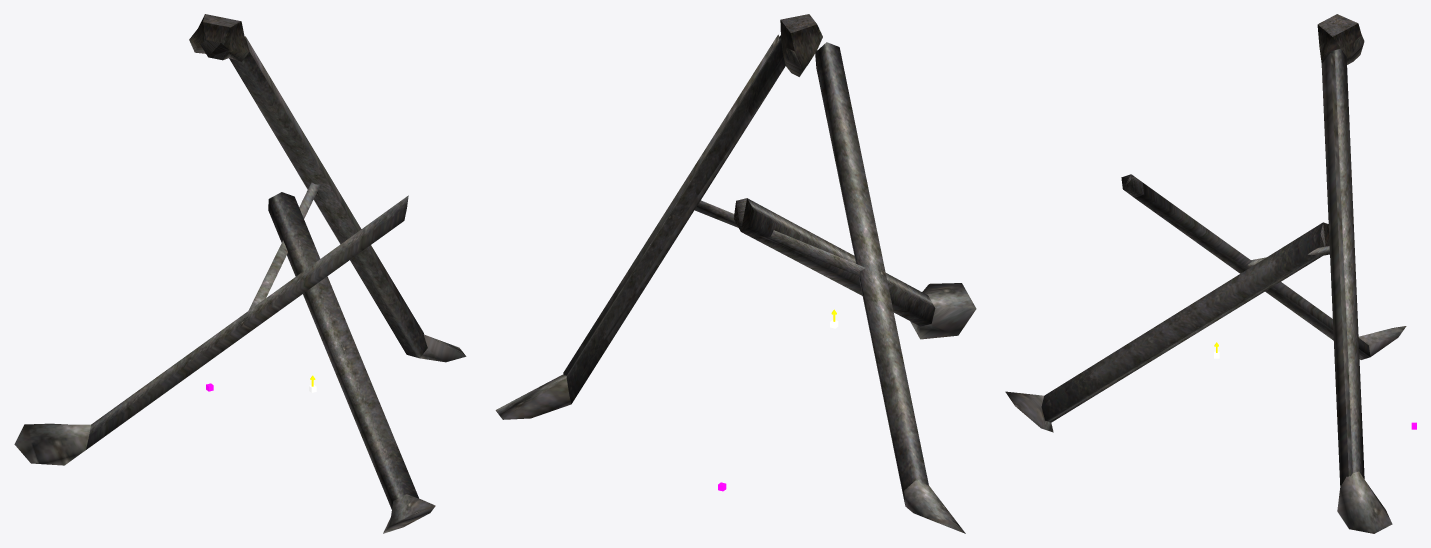
3 renders of one model, left to right at view 1: azimuth 30°, elevation 25°; view 2: azimuth 150°, elevation 25°; view 3: azimuth 270°, elevation 25°, orthographic. The views are drawn at different scales.
Visible parts, largest first — view 1: 01 Mesh0, 01 Mesh0.002; view 2: 01 Mesh0, 01 Mesh0.002; view 3: 01 Mesh0, 01 Mesh0.002.
Boxes of the visible parts, left/top/right/bottom form: 01 Mesh0: left=14, top=14, right=466, bottom=533; 01 Mesh0.002: left=244, top=36, right=427, bottom=347; 01 Mesh0: left=495, top=14, right=976, bottom=533; 01 Mesh0.002: left=563, top=34, right=781, bottom=386; 01 Mesh0: left=1005, top=14, right=1406, bottom=533; 01 Mesh0.002: left=1123, top=53, right=1369, bottom=486.
Size of the model in its own units: 1.33 by 1.23 by 1.14.
4 materials, 1 textured.
